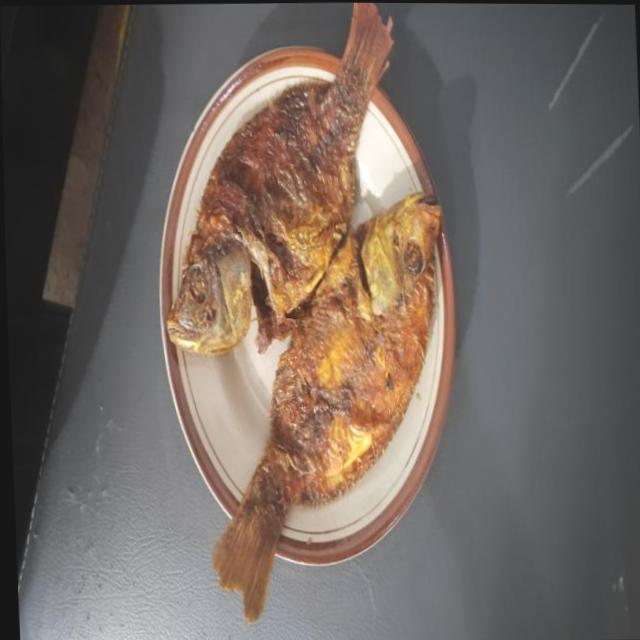ikan_mujair: (212, 192, 441, 622), (167, 2, 392, 354)
